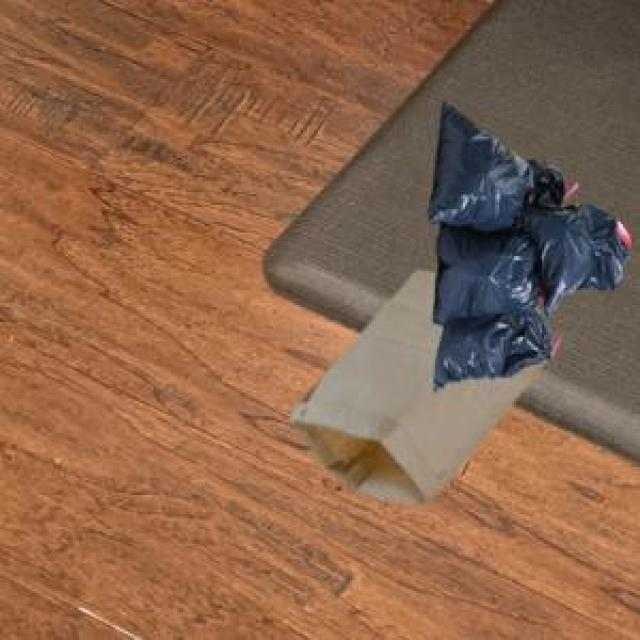miscellaneous trash: (425, 98, 625, 388)
paper: (286, 267, 542, 499)
